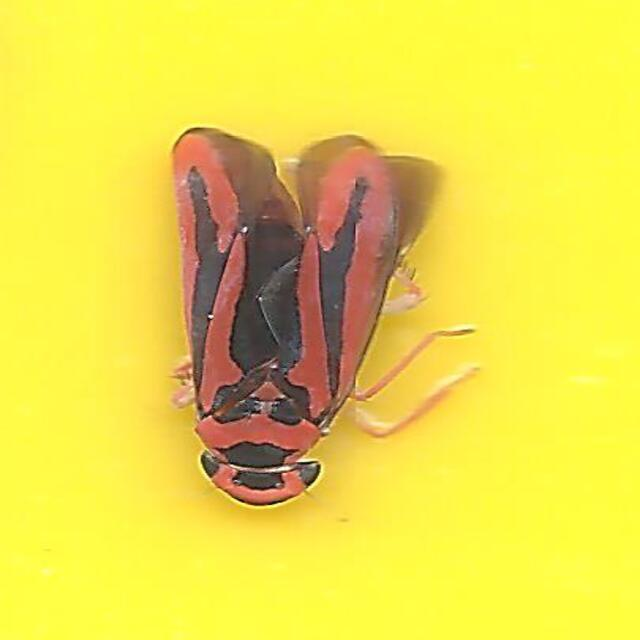Hemiptera: (158, 119, 482, 521)
